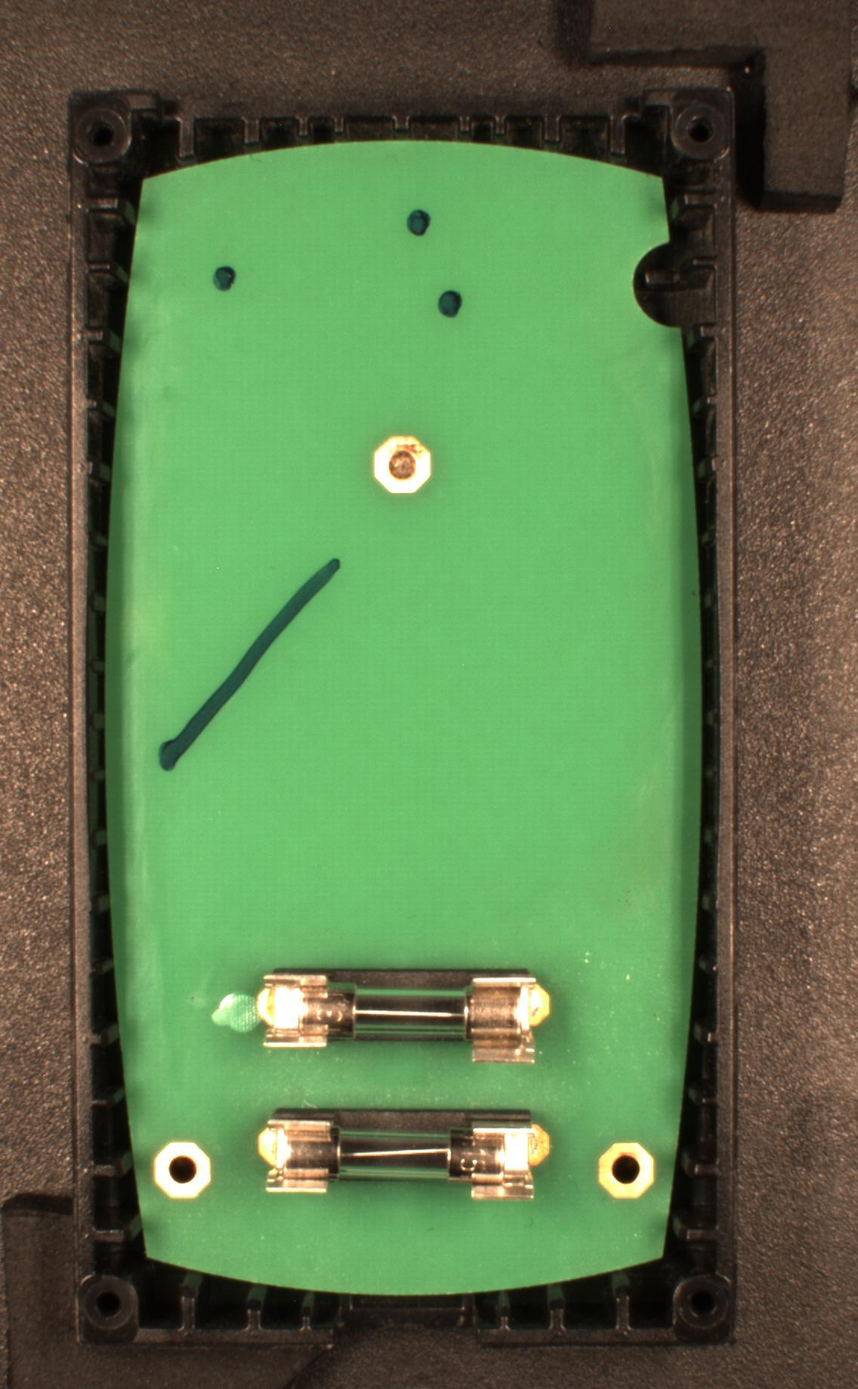Linijsko Ostecene: (157, 555, 343, 773)
Tockasto Ostecenje: (435, 287, 465, 319), (404, 207, 433, 239), (210, 263, 238, 293)
